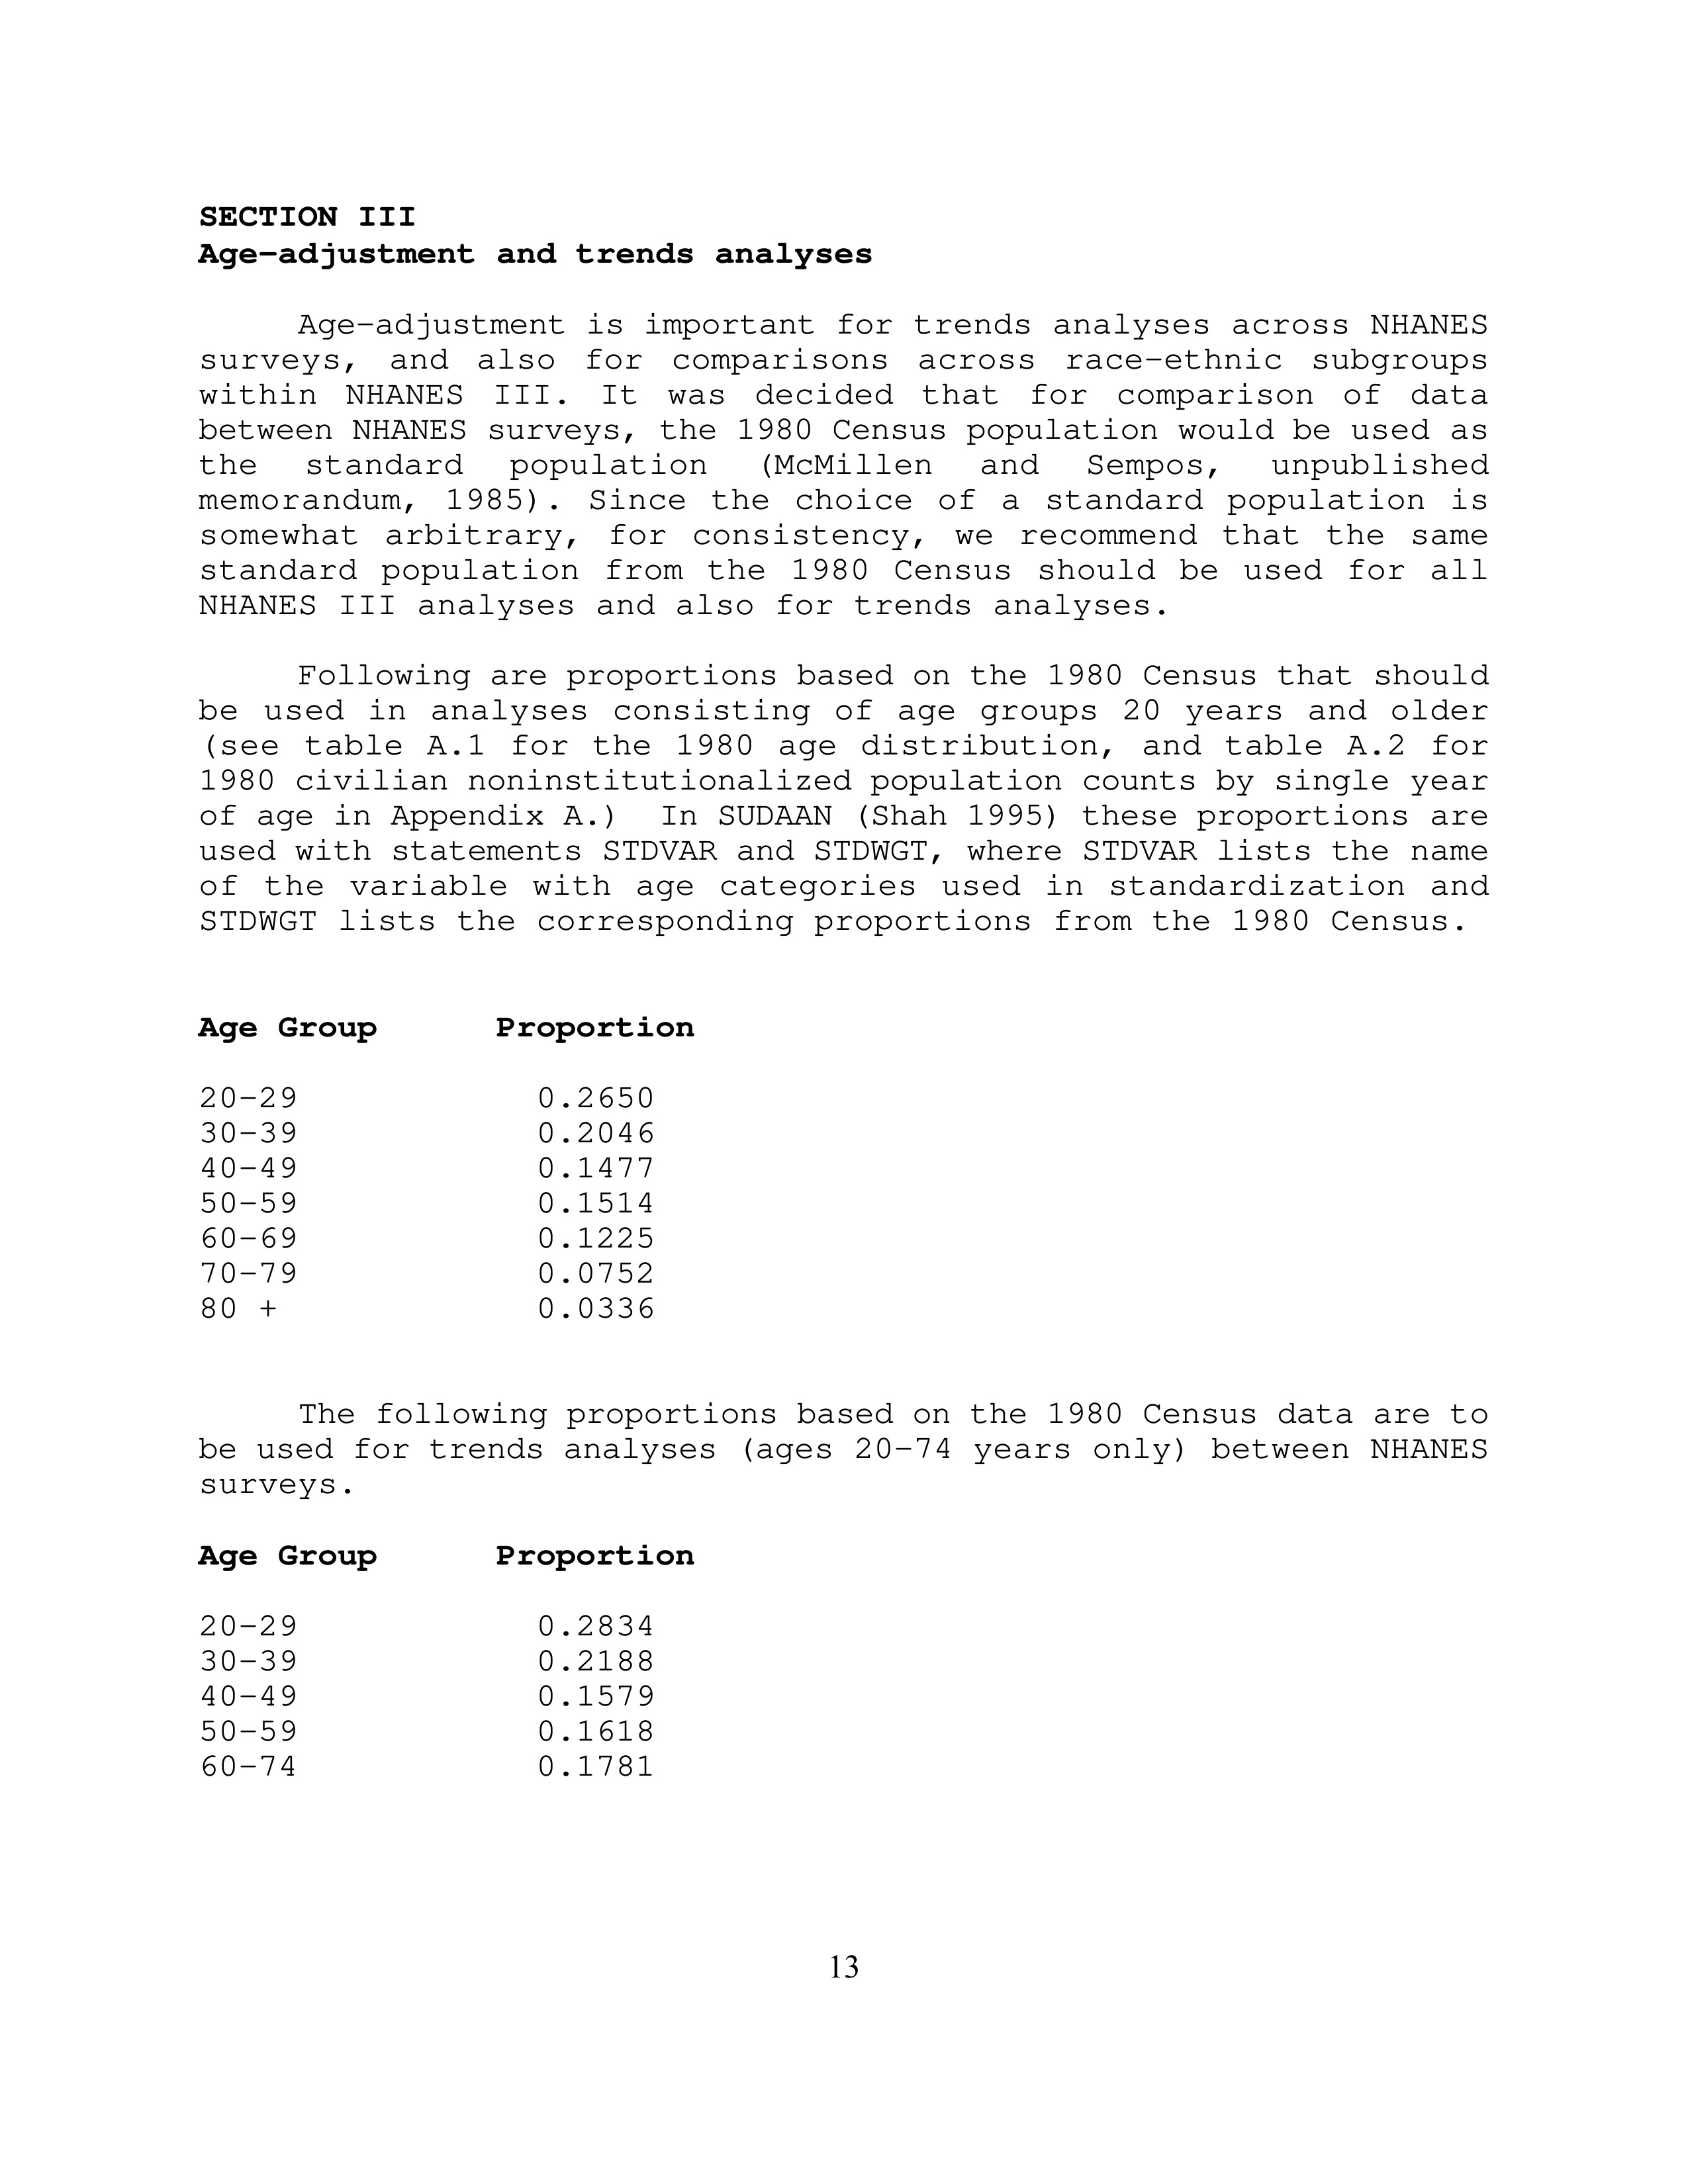table: (199, 1003, 695, 1328), (199, 1532, 695, 1785)
